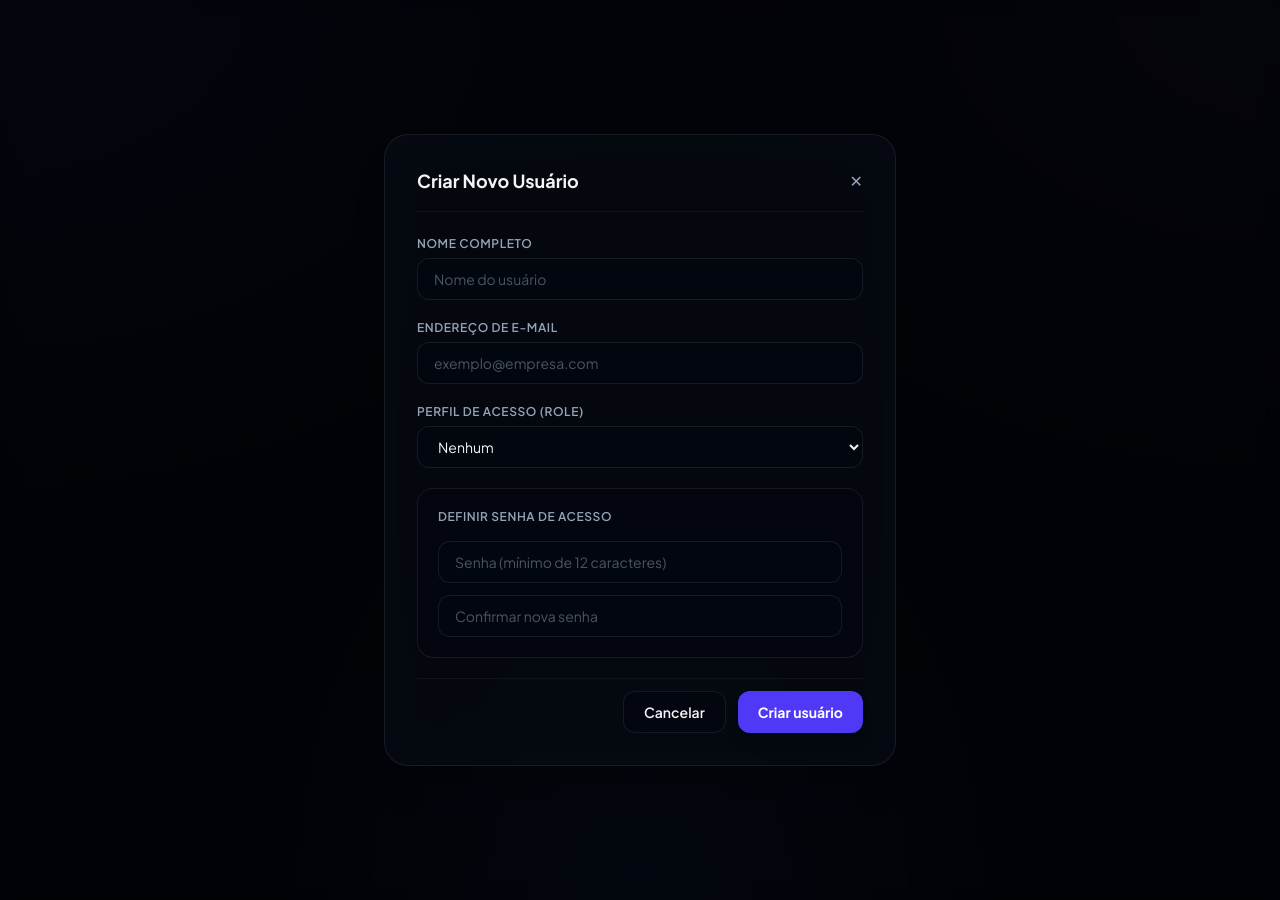
it: UserFormModal › shows error if password is less than 12 characters
// Preencher campos obrigatórios
Type "Fulano de Tal" into the field with placeholder "Nome do usuário" at (640, 279), box [417,258,863,300]
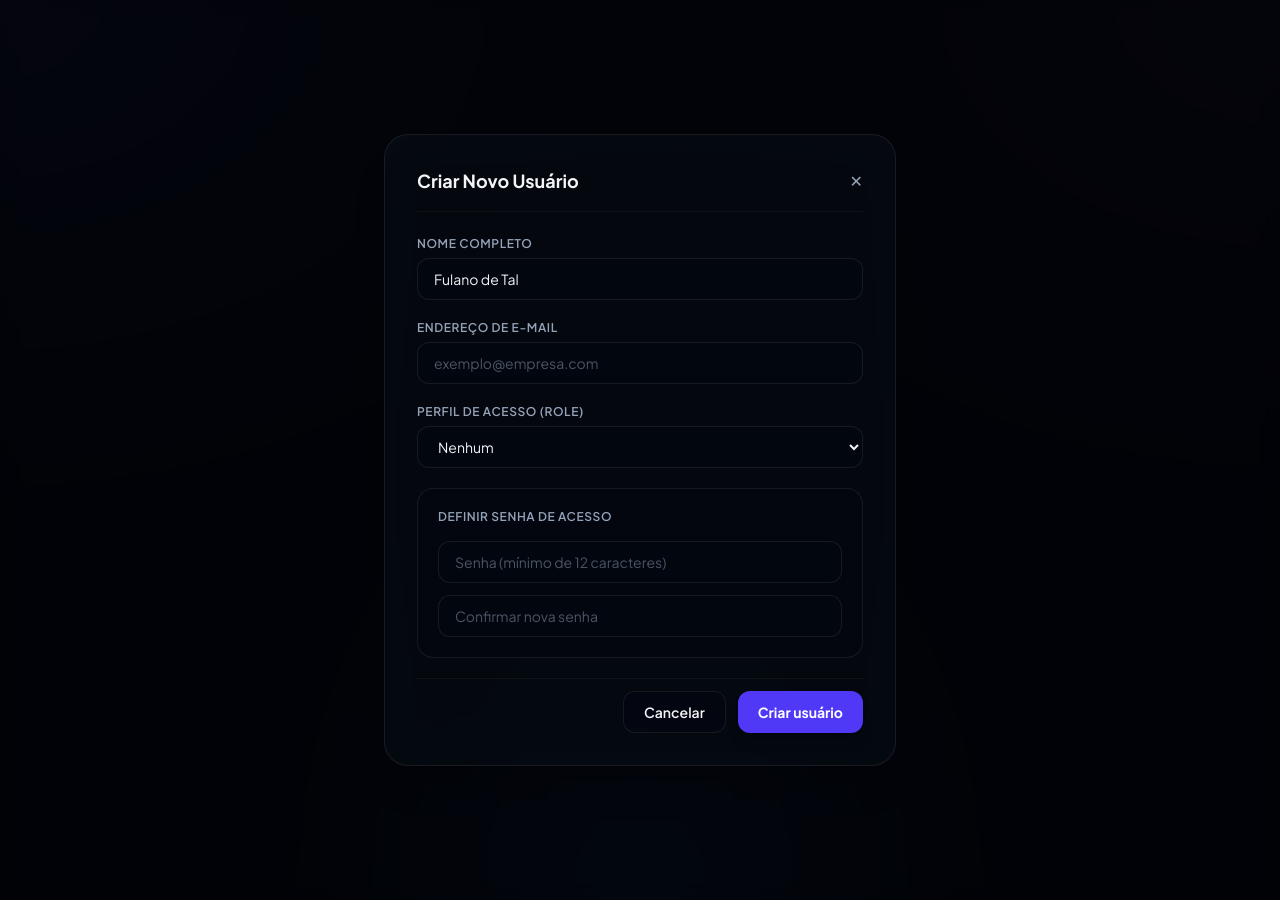
Type "fulano@empresa.com" into the field with placeholder "exemplo@empresa.com" at (640, 363), box [417,342,863,384]
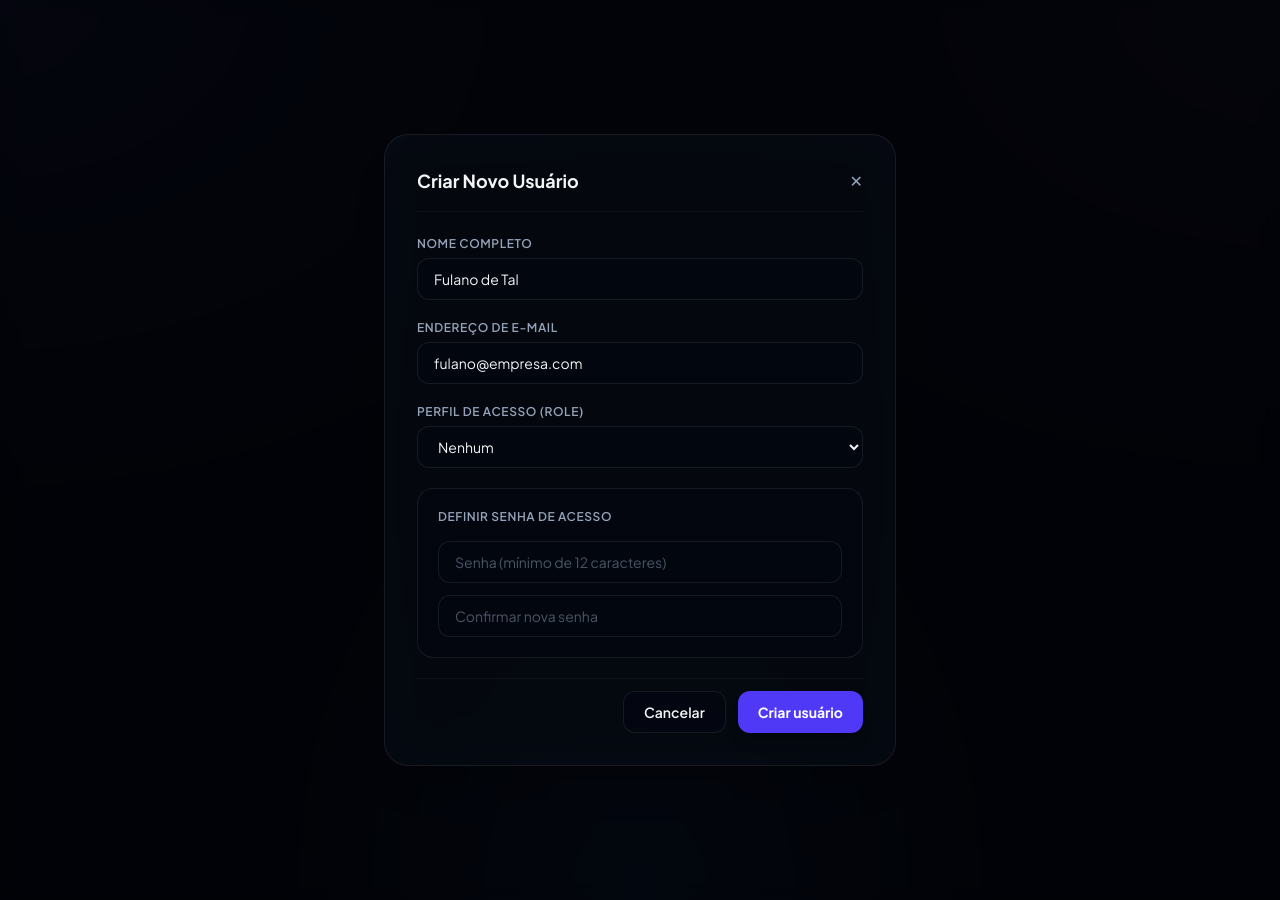
// Senha muito curta
Type "Senha123" into the password field with placeholder "Senha (mínimo de 12 caracteres)" at (640, 562), box [438,541,842,583]
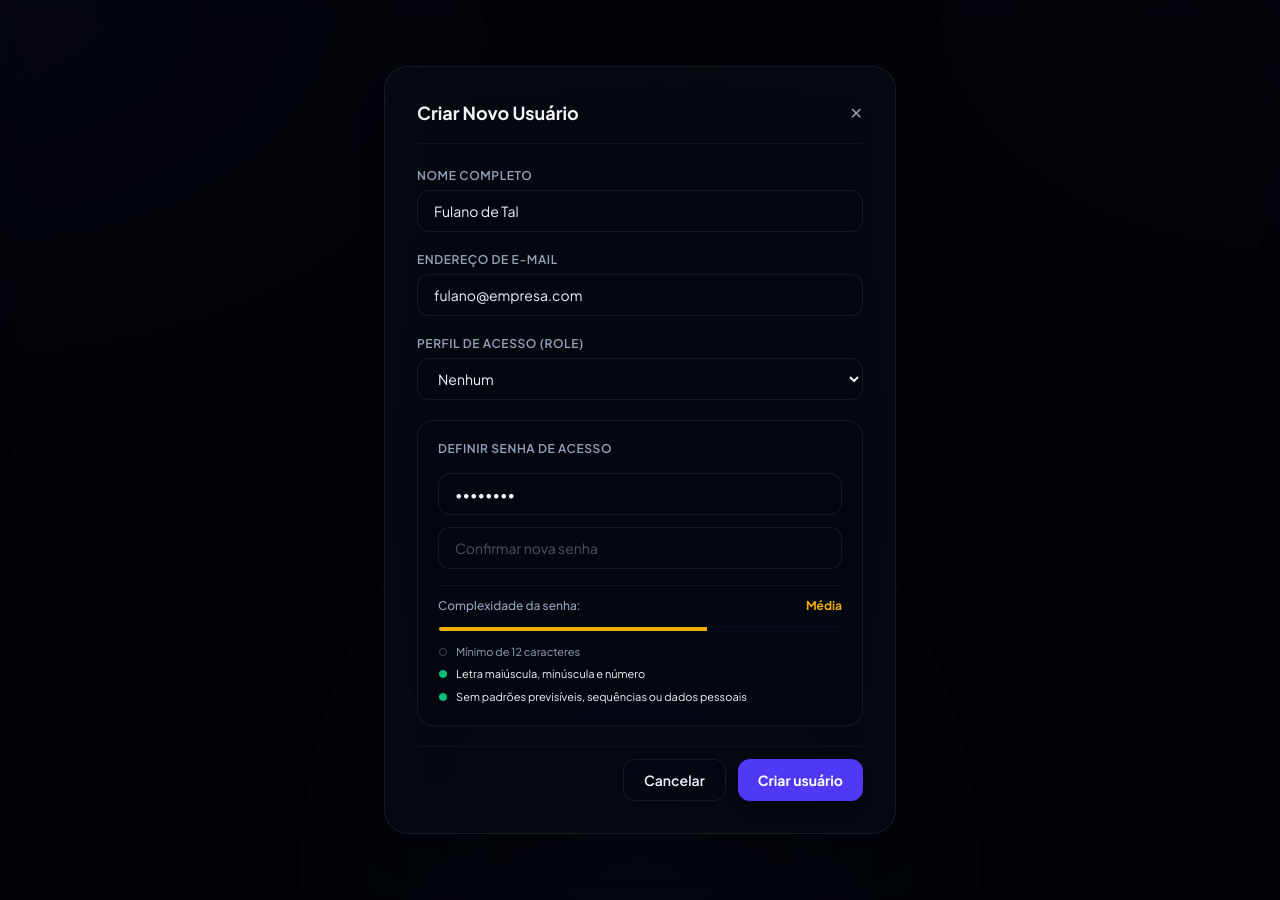
Submit the form from the button "Criar usuário", box [738,759,863,801]
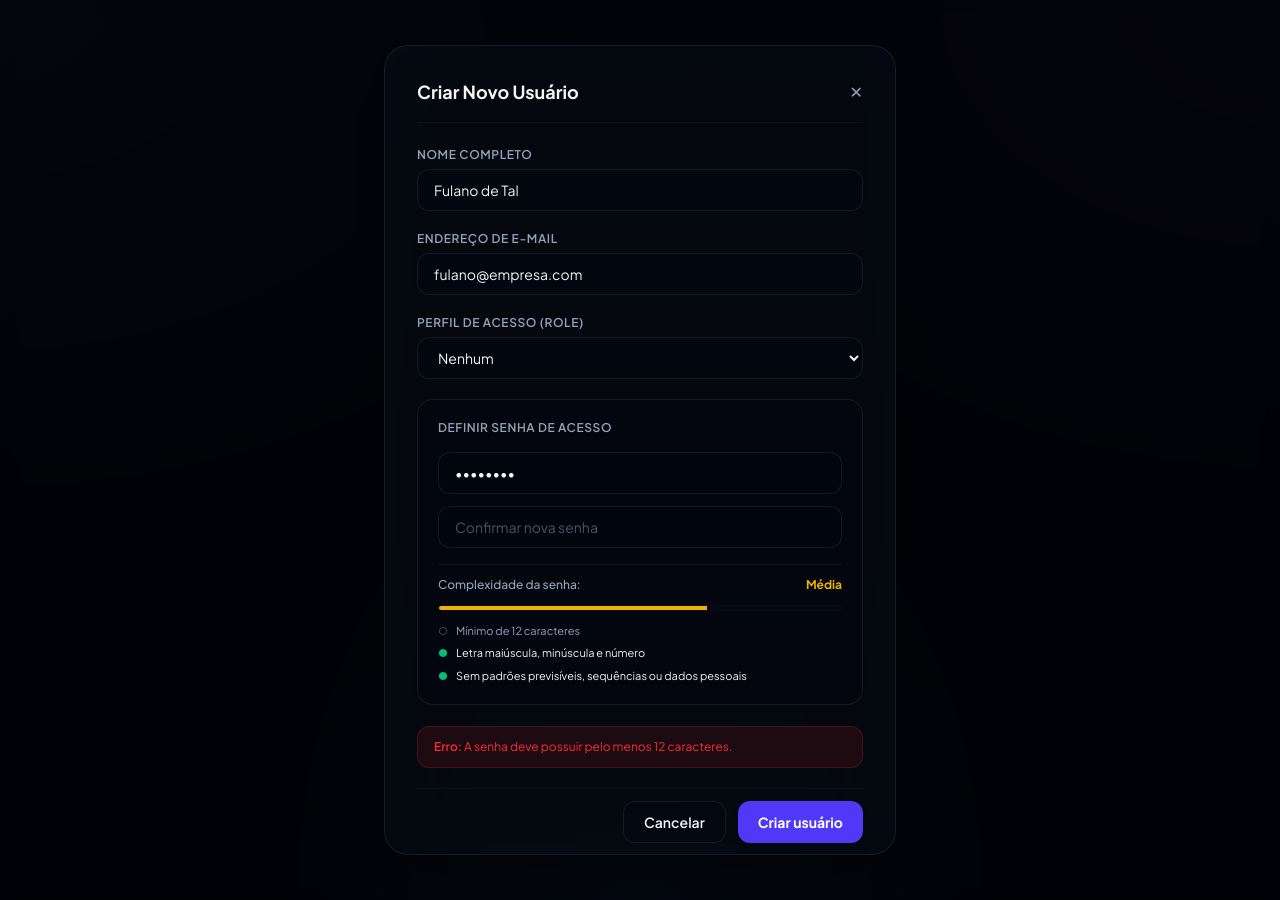
Result: the text "A senha deve possuir pelo menos 12 caracteres." is shown at [464,738,732,754]
